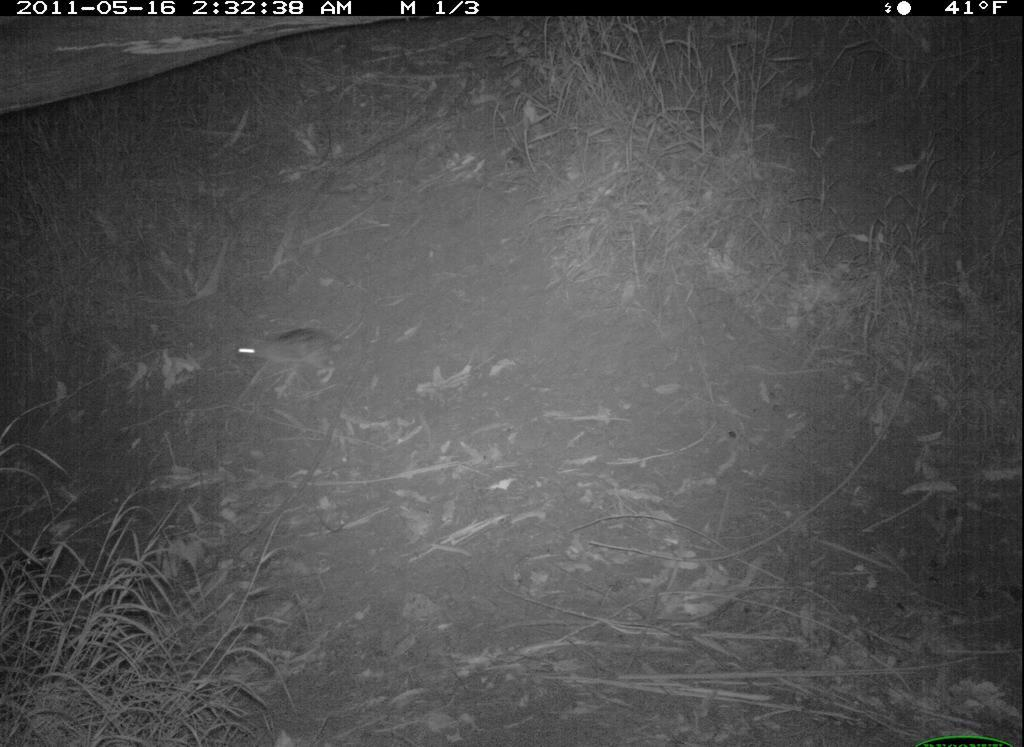rabbit: (228, 323, 350, 402)
